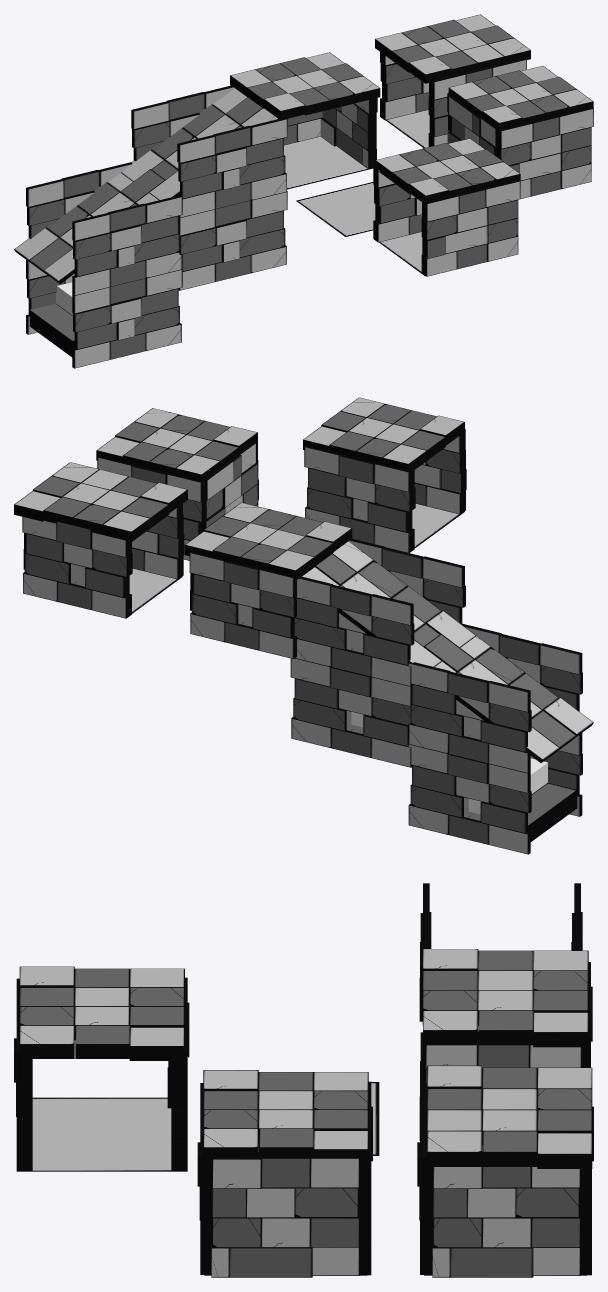
The model's file is all boxes larger roofs.FBX.
3 renders of one model, top to bottom at view 1: azimuth 30°, elevation 25°; view 2: azimuth 150°, elevation 25°; view 3: azimuth 270°, elevation 25°, orthographic. The views are drawn at different scales.
Parts seen in each view (by area): view 1: Base 014, roof, 646, Plane003, roof001, roof002, full tile, Box 9; view 2: Base 014, roof, full tile, 646, Plane003, roof001, roof002; view 3: 646, roof, full tile, roof001, roof002, Plane003, Base 014, Box 9.
Boxes of the visible parts, left/top/right/bottom form: Base 014: left=14, top=85, right=287, bottom=368; roof: left=373, top=138, right=520, bottom=276; 646: left=447, top=66, right=593, bottom=198; Plane003: left=230, top=85, right=377, bottom=189; roof001: left=375, top=14, right=530, bottom=83; roof002: left=230, top=52, right=380, bottom=120; full tile: left=380, top=52, right=526, bottom=148; Box 9: left=296, top=182, right=375, bottom=236; Base 014: left=290, top=538, right=593, bottom=854; roof: left=303, top=397, right=466, bottom=552; full tile: left=22, top=503, right=184, bottom=618; 646: left=96, top=408, right=258, bottom=560; Plane003: left=189, top=552, right=296, bottom=658; roof001: left=14, top=462, right=187, bottom=541; roof002: left=184, top=502, right=352, bottom=580; 646: left=197, top=1070, right=372, bottom=1277; roof: left=14, top=966, right=189, bottom=1171; full tile: left=417, top=1083, right=593, bottom=1277; roof001: left=427, top=1065, right=592, bottom=1168; roof002: left=422, top=949, right=588, bottom=1047; Plane003: left=426, top=962, right=592, bottom=1151; Base 014: left=419, top=883, right=582, bottom=1140; Box 9: left=371, top=1082, right=379, bottom=1155.
Size of the model in its own units: 293 by 123 by 191.
6 materials, 5 textured.
